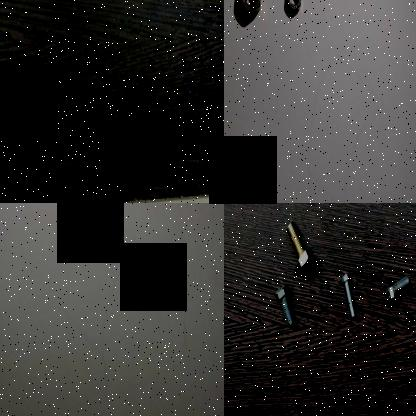Bolts: (286, 217, 314, 277), (273, 282, 297, 330), (382, 270, 412, 304), (336, 271, 356, 318)
NUTS: (237, 0, 262, 15), (284, 0, 305, 13)
